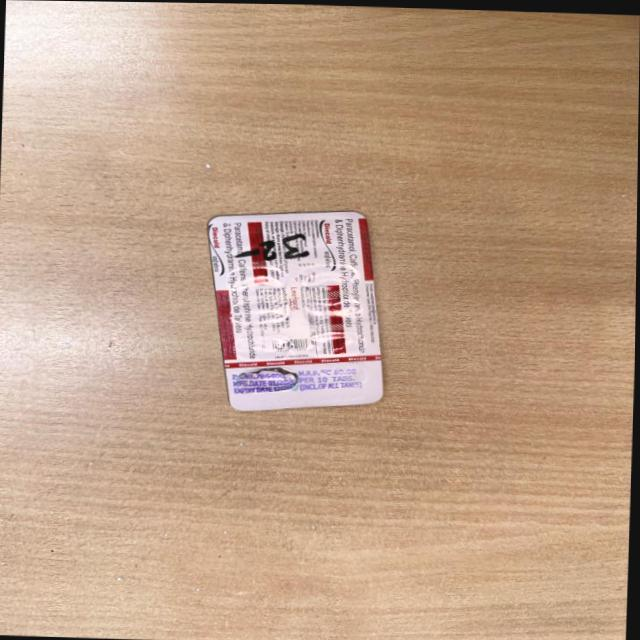medicine: (195, 205, 394, 416)
